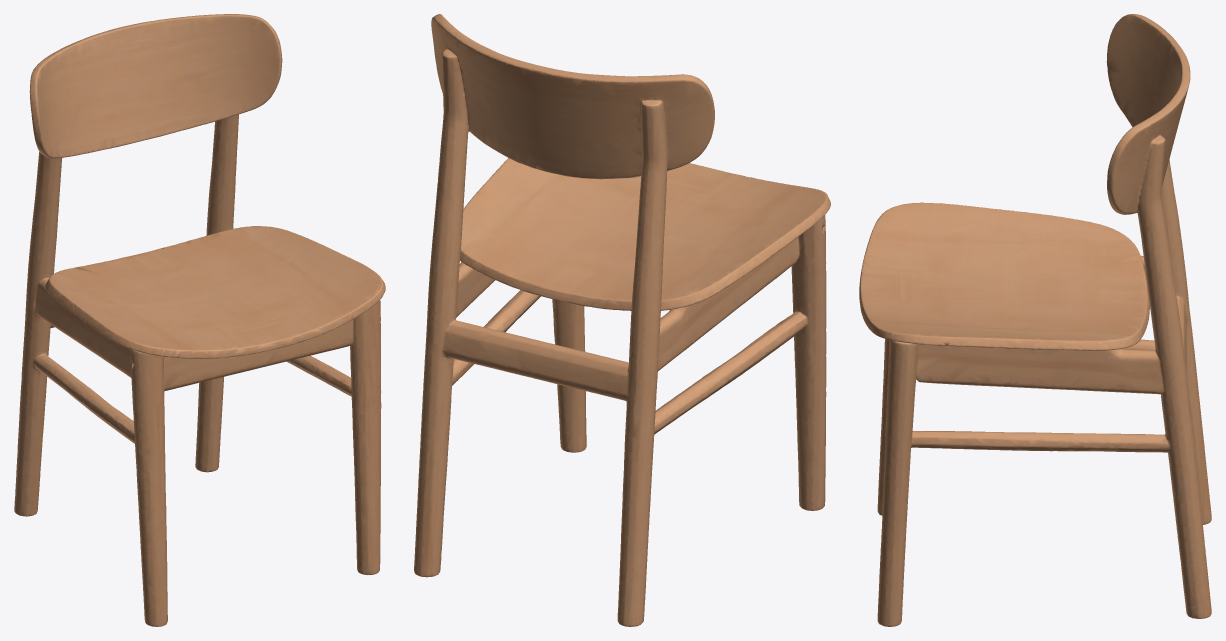
Rendered from diningchair.glb.
The picture shows the model from 3 angles, left to right: view 1: azimuth 30°, elevation 25°; view 2: azimuth 150°, elevation 25°; view 3: azimuth 270°, elevation 25°; orthographic projection. The views are drawn at different scales.
Parts seen in each view (by area): view 1: geometry_0; view 2: geometry_0; view 3: geometry_0.
Part boxes in pixels (x1,y1,x2,y2): geometry_0: [14, 14, 385, 626]; geometry_0: [414, 14, 830, 626]; geometry_0: [859, 14, 1211, 626].
Size of the model in its own units: 0.5928 by 1 by 0.6449.
Materials: 1 (1 with a texture image).
